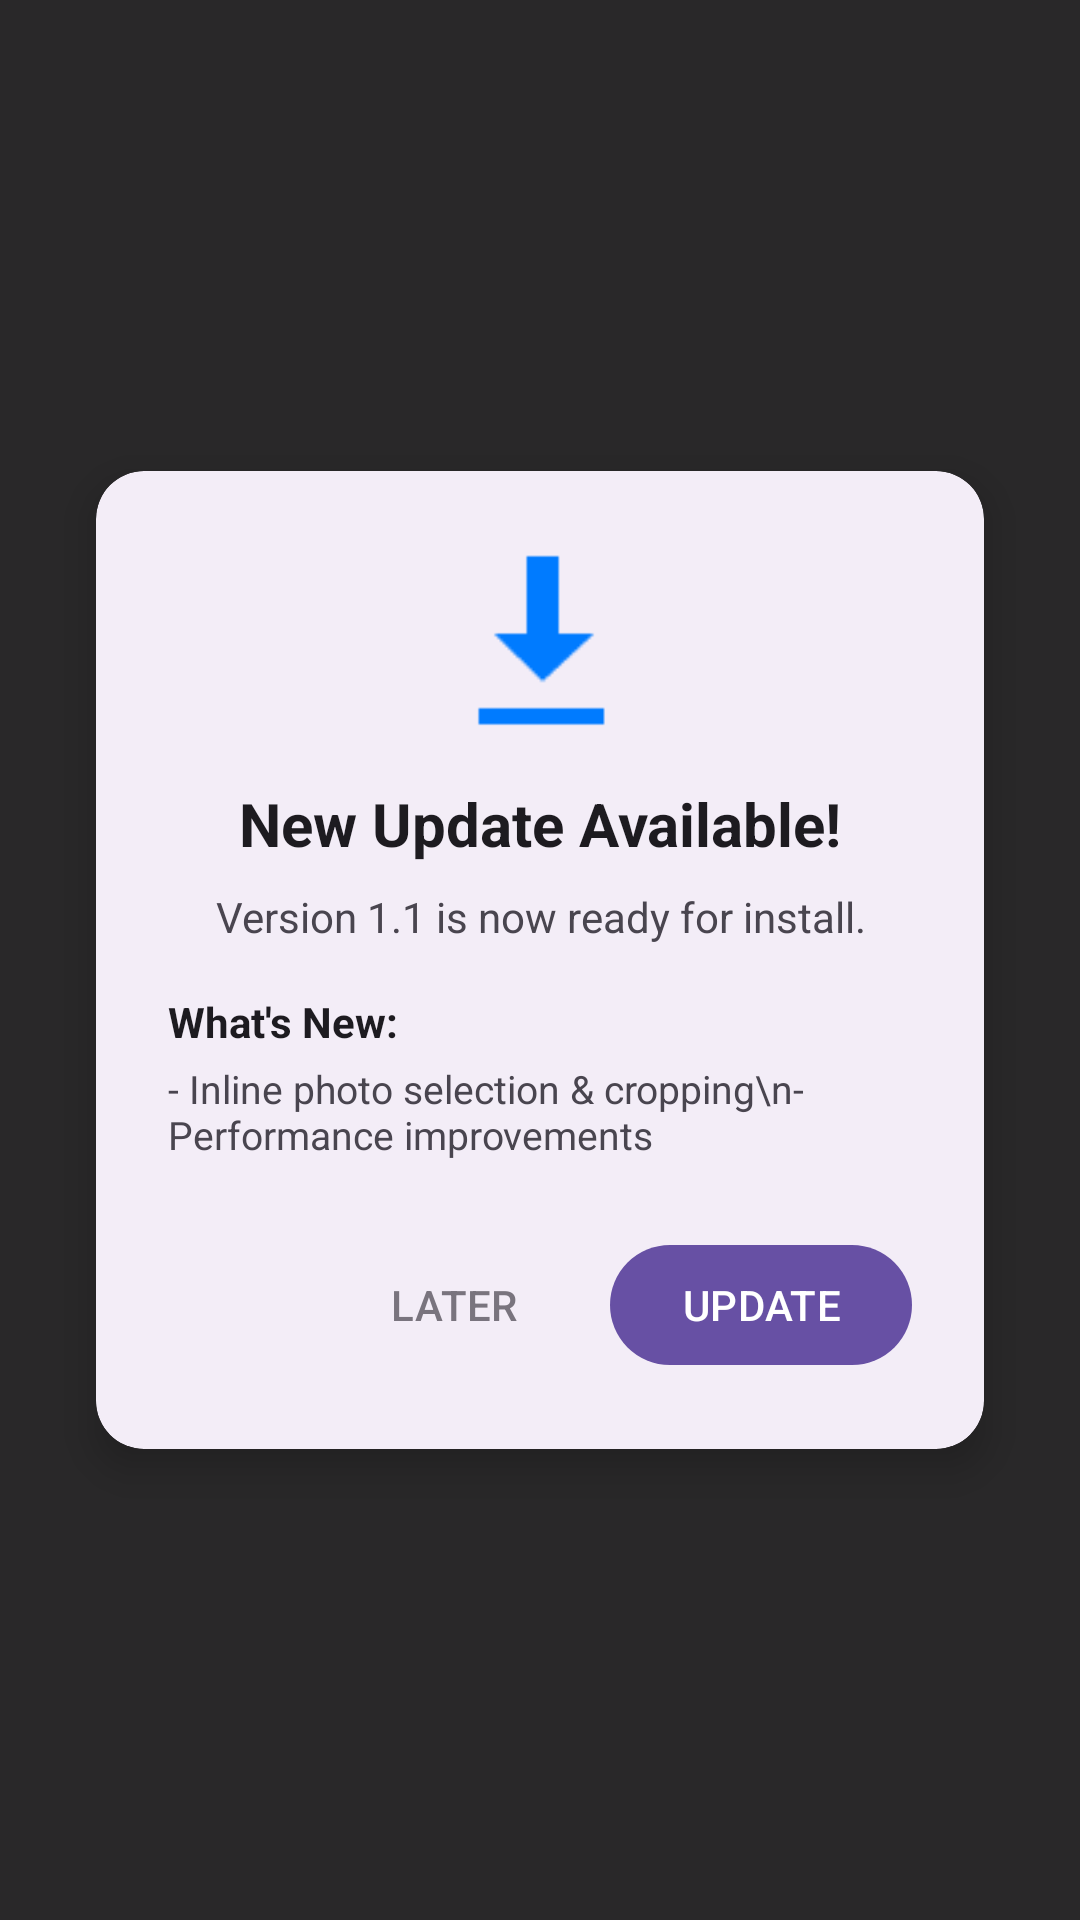

Screen size 1080 × 1920. Icon name, then its box in pixels as (x1, y1, x2, y2):
download: (478, 555, 605, 725)
